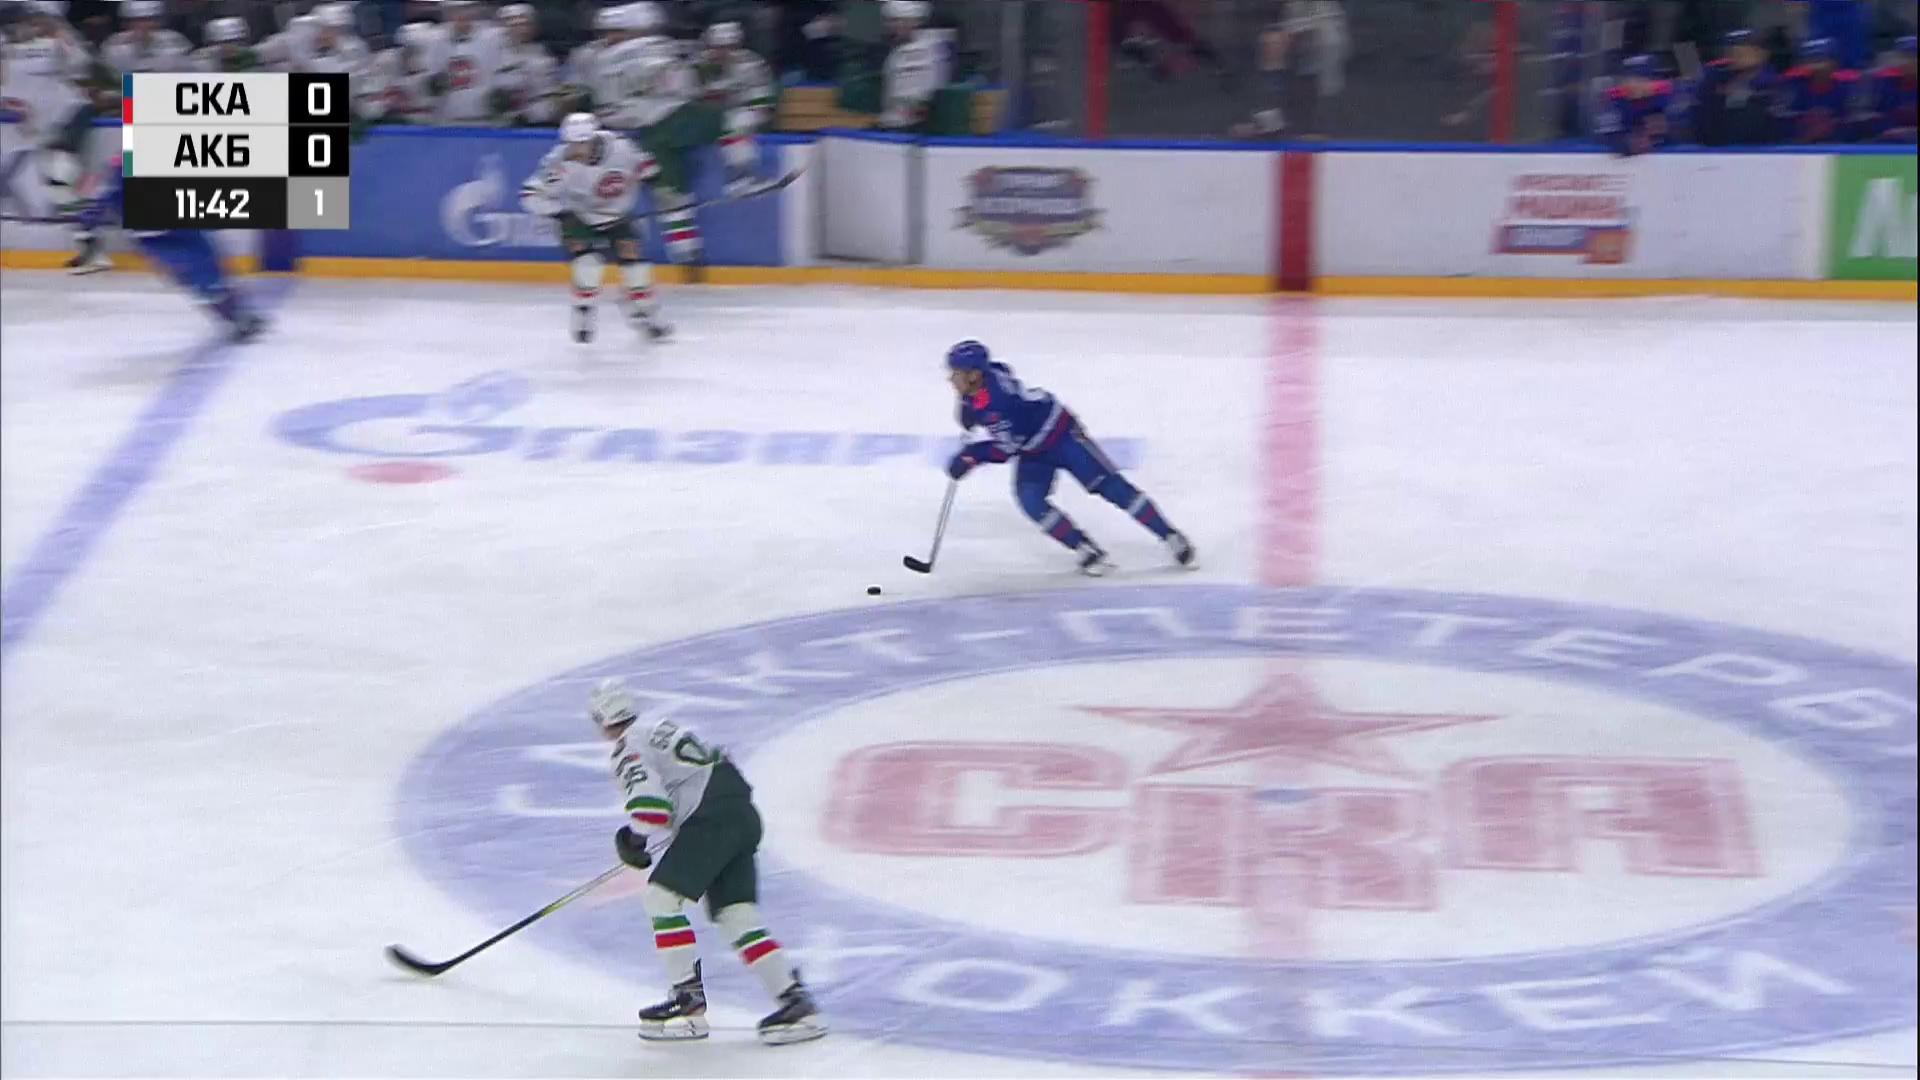ball: (866, 585, 884, 596)
